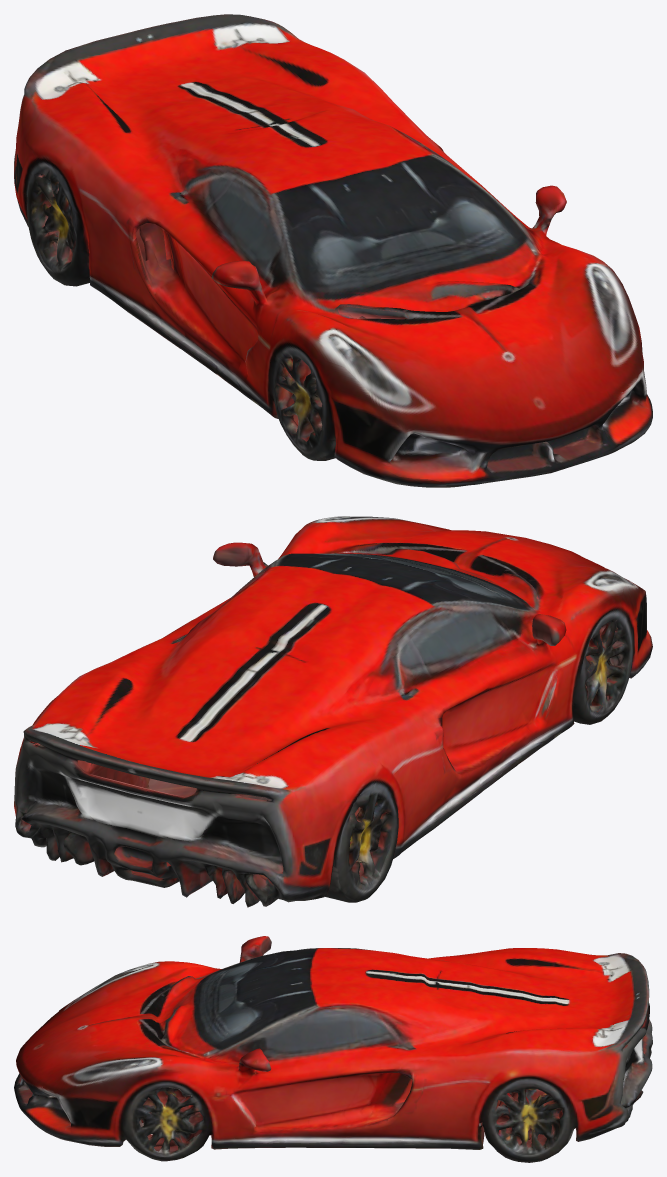
The picture shows the model from 3 angles, top to bottom: view 1: azimuth 30°, elevation 25°; view 2: azimuth 150°, elevation 25°; view 3: azimuth 270°, elevation 25°; orthographic projection. The views are drawn at different scales.
Bounding box in the file's own units: 0.9349 × 0.4661 × 1.99.
1 material, 1 textured.
